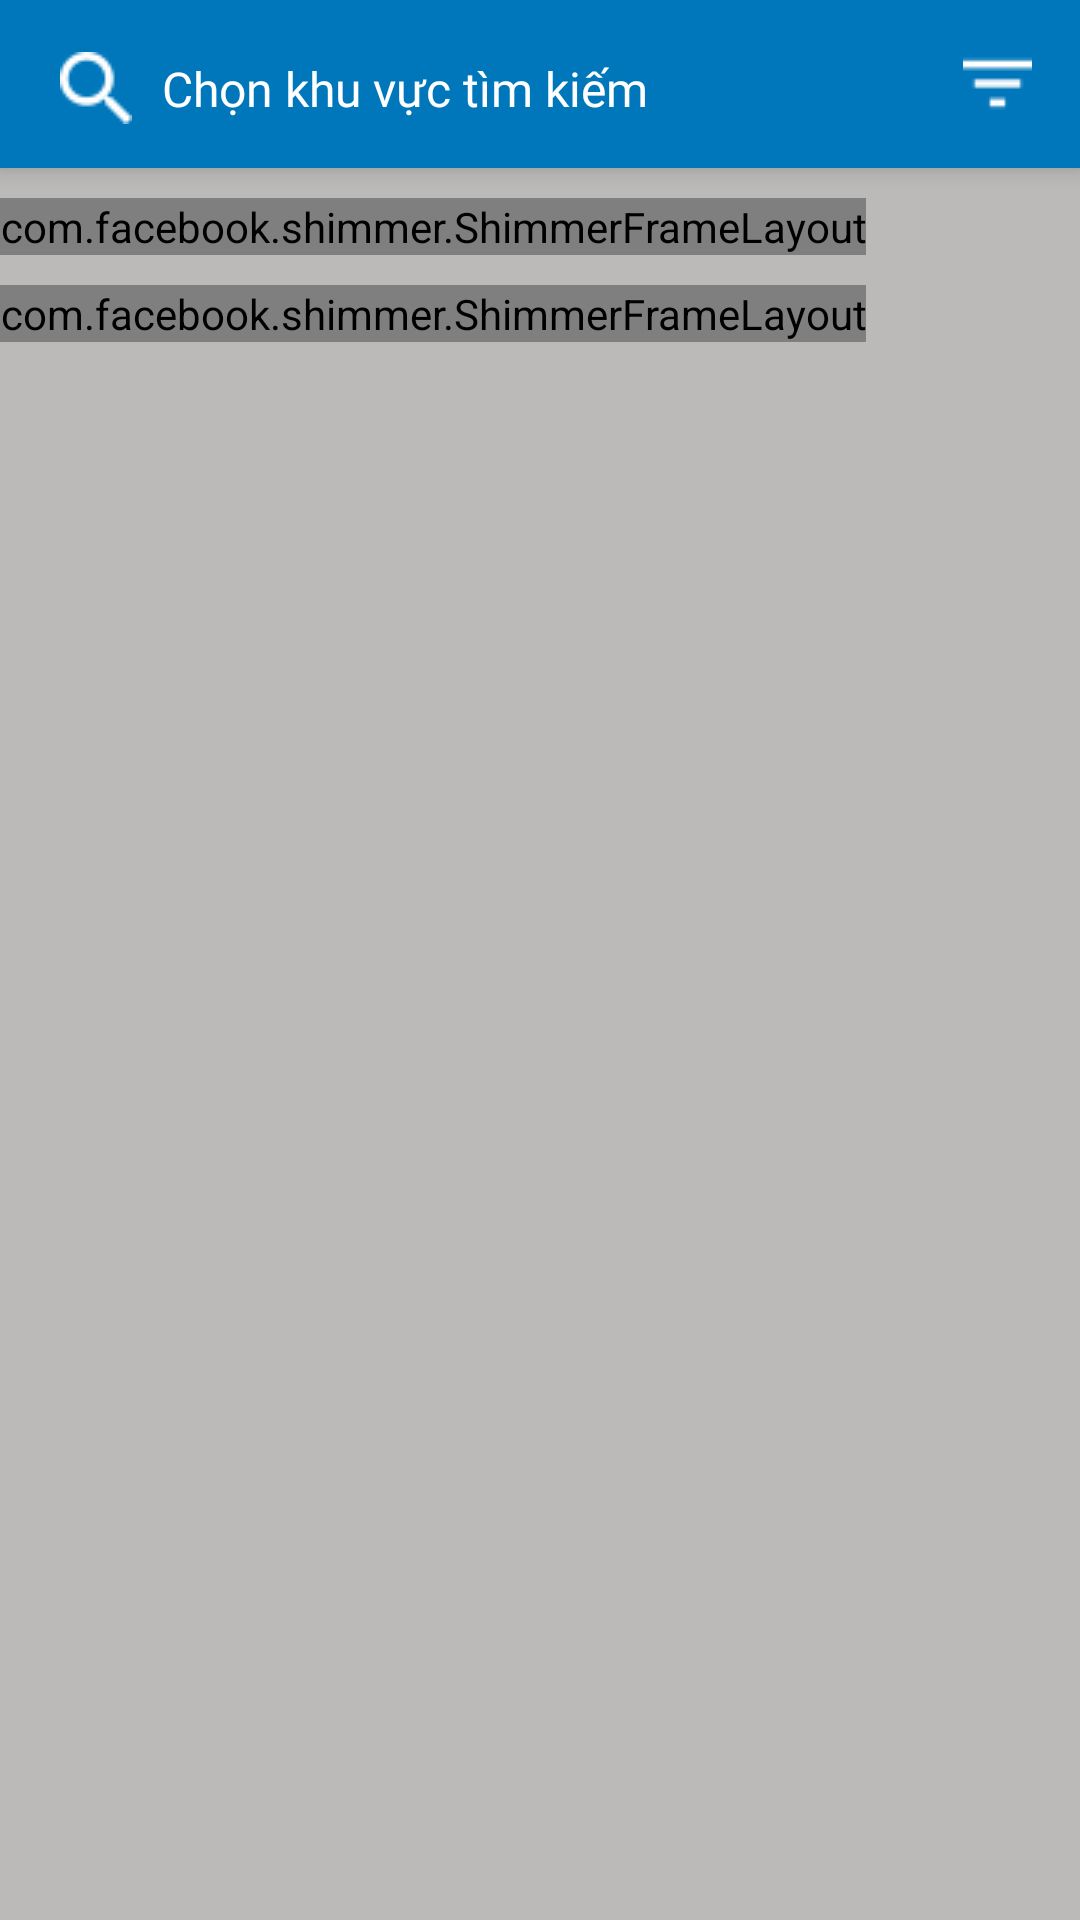

Point at icon controls on the screen. Image size 1080 x 1920, points as (x=x, y=y).
filterpng: (x=997, y=83)
